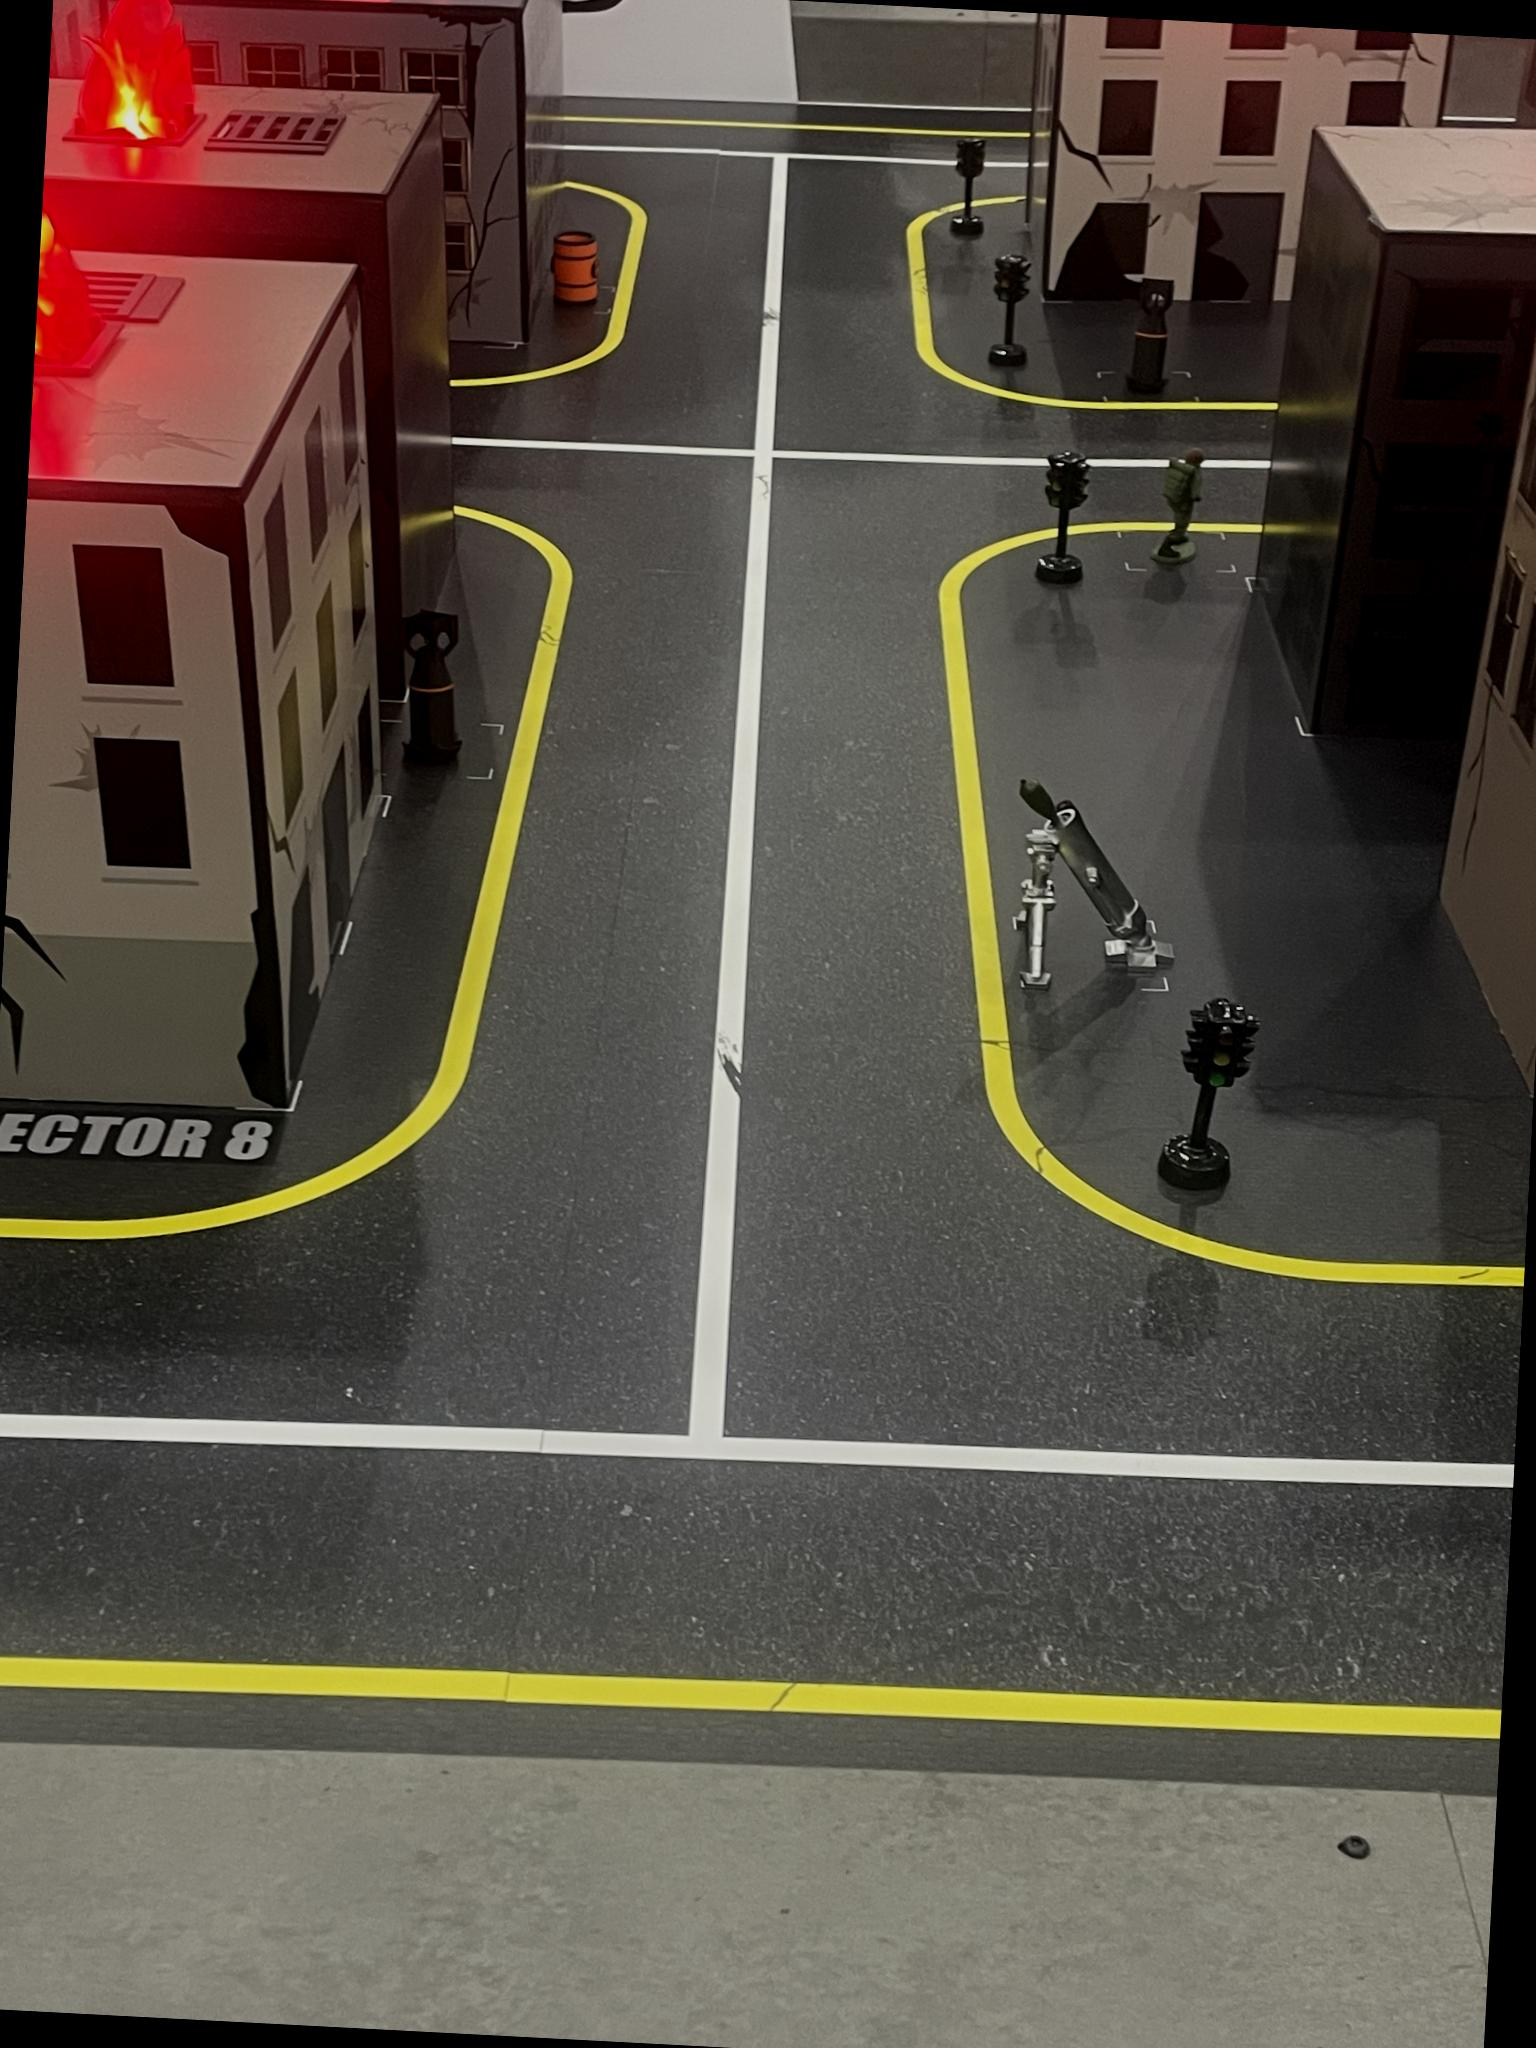Enemy: (1155, 447, 1202, 563)
Hazmat: (549, 226, 597, 300)
Missile: (400, 608, 476, 758), (1136, 281, 1175, 390)
Mortar: (1007, 774, 1186, 1006)
